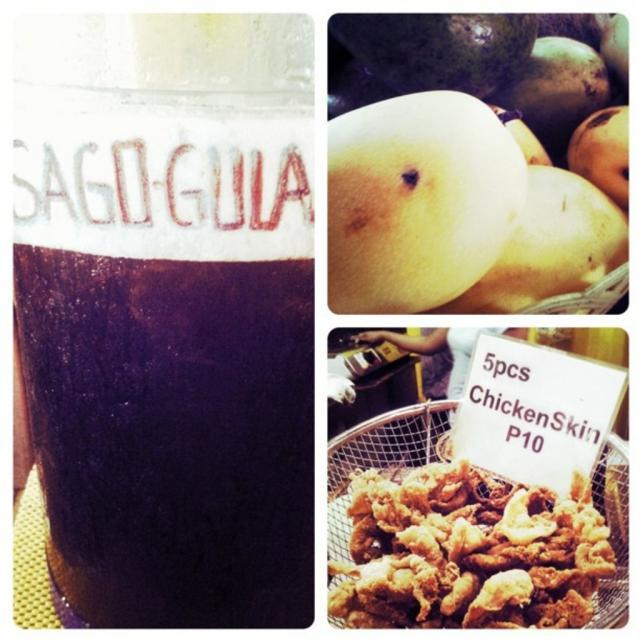Potato: (328, 10, 632, 316)
